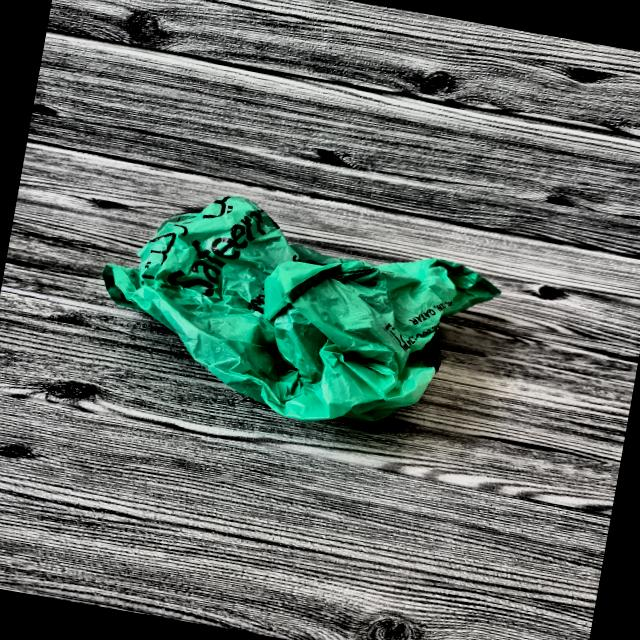plastic bag: (86, 168, 509, 452)
